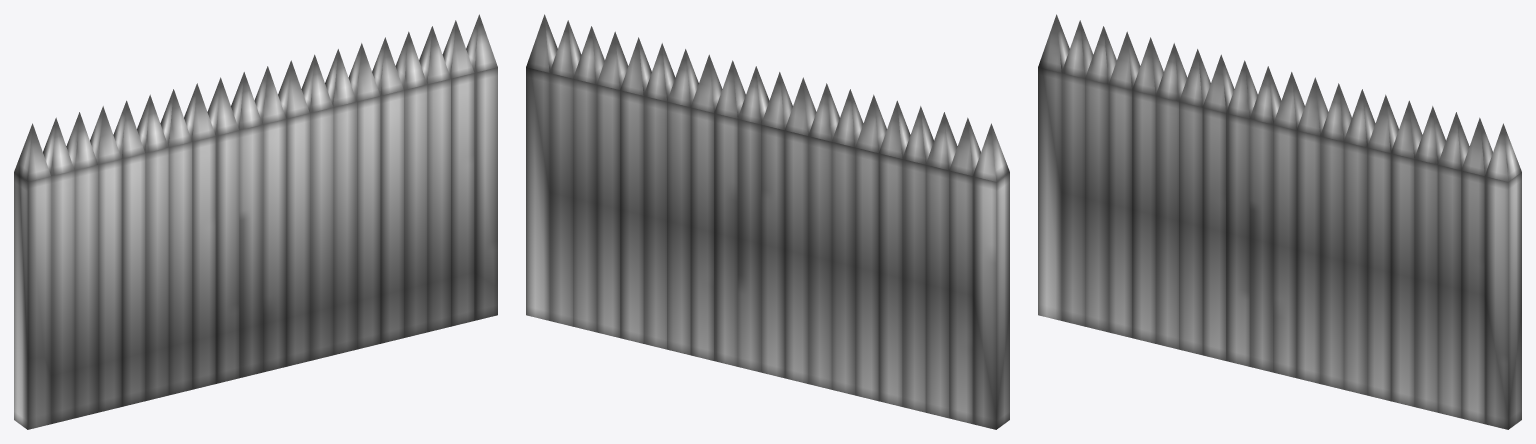
File: Palisade-01.fbx
3 views of the same model, side by side, from view 1: azimuth 30°, elevation 25°; view 2: azimuth 150°, elevation 25°; view 3: azimuth 330°, elevation 25° (orthographic).
Visible parts, largest first — view 1: Palisade; view 2: Palisade; view 3: Palisade.
Boxes of the visible parts, box(x1,y1,x2,y2) form: Palisade: box(14, 14, 497, 429); Palisade: box(526, 14, 1009, 429); Palisade: box(1038, 14, 1521, 429).
Bounding box in the file's own units: 1 × 0.6078 × 0.0504.
